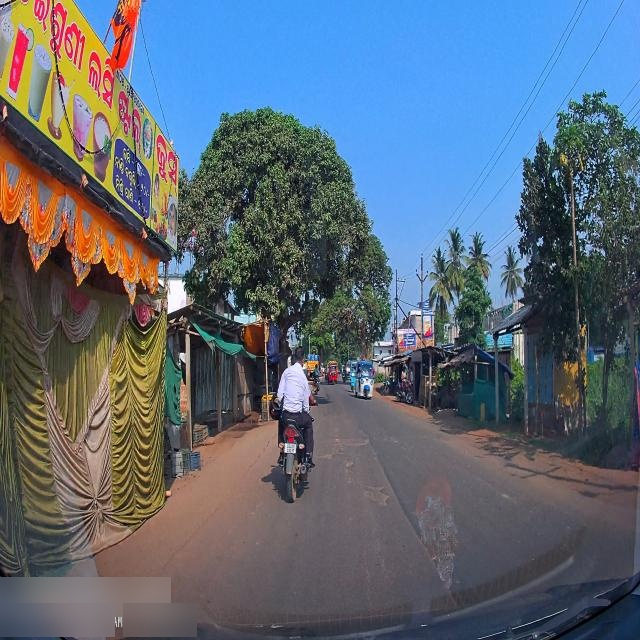pothole: (361, 480, 391, 512), (342, 459, 355, 472)
